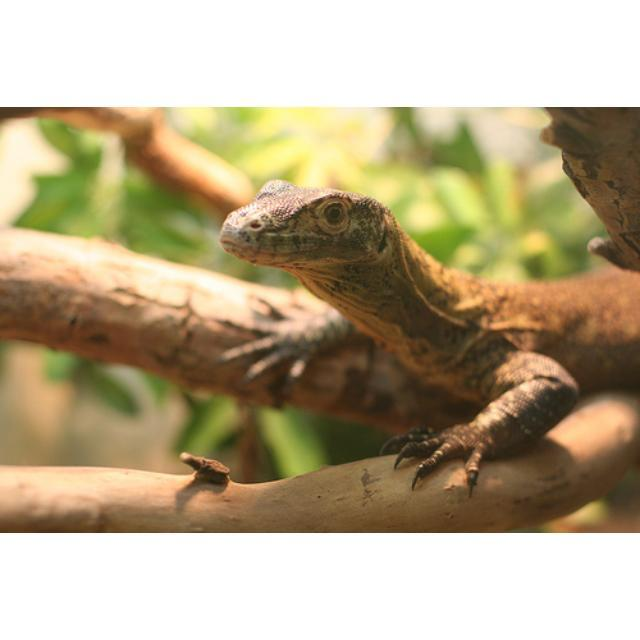KomodoDragon: (221, 174, 637, 499)
